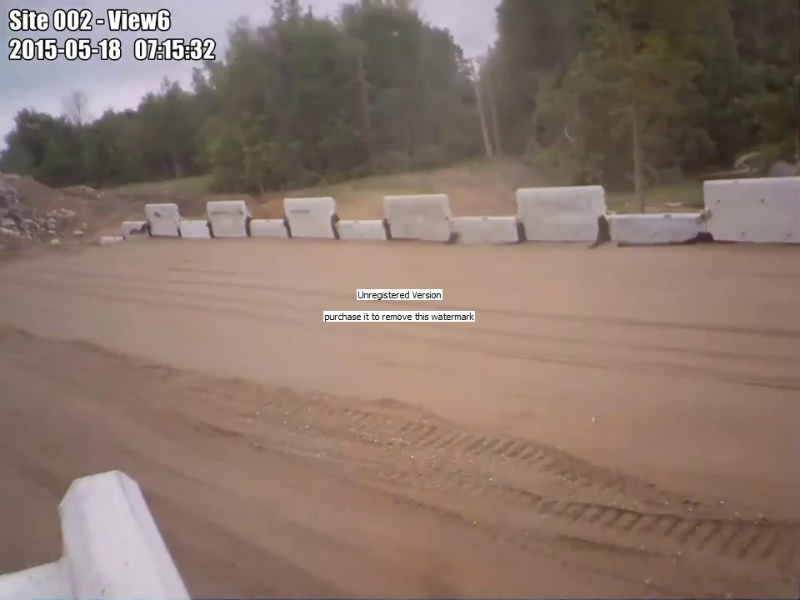wall: (122, 177, 800, 245)
